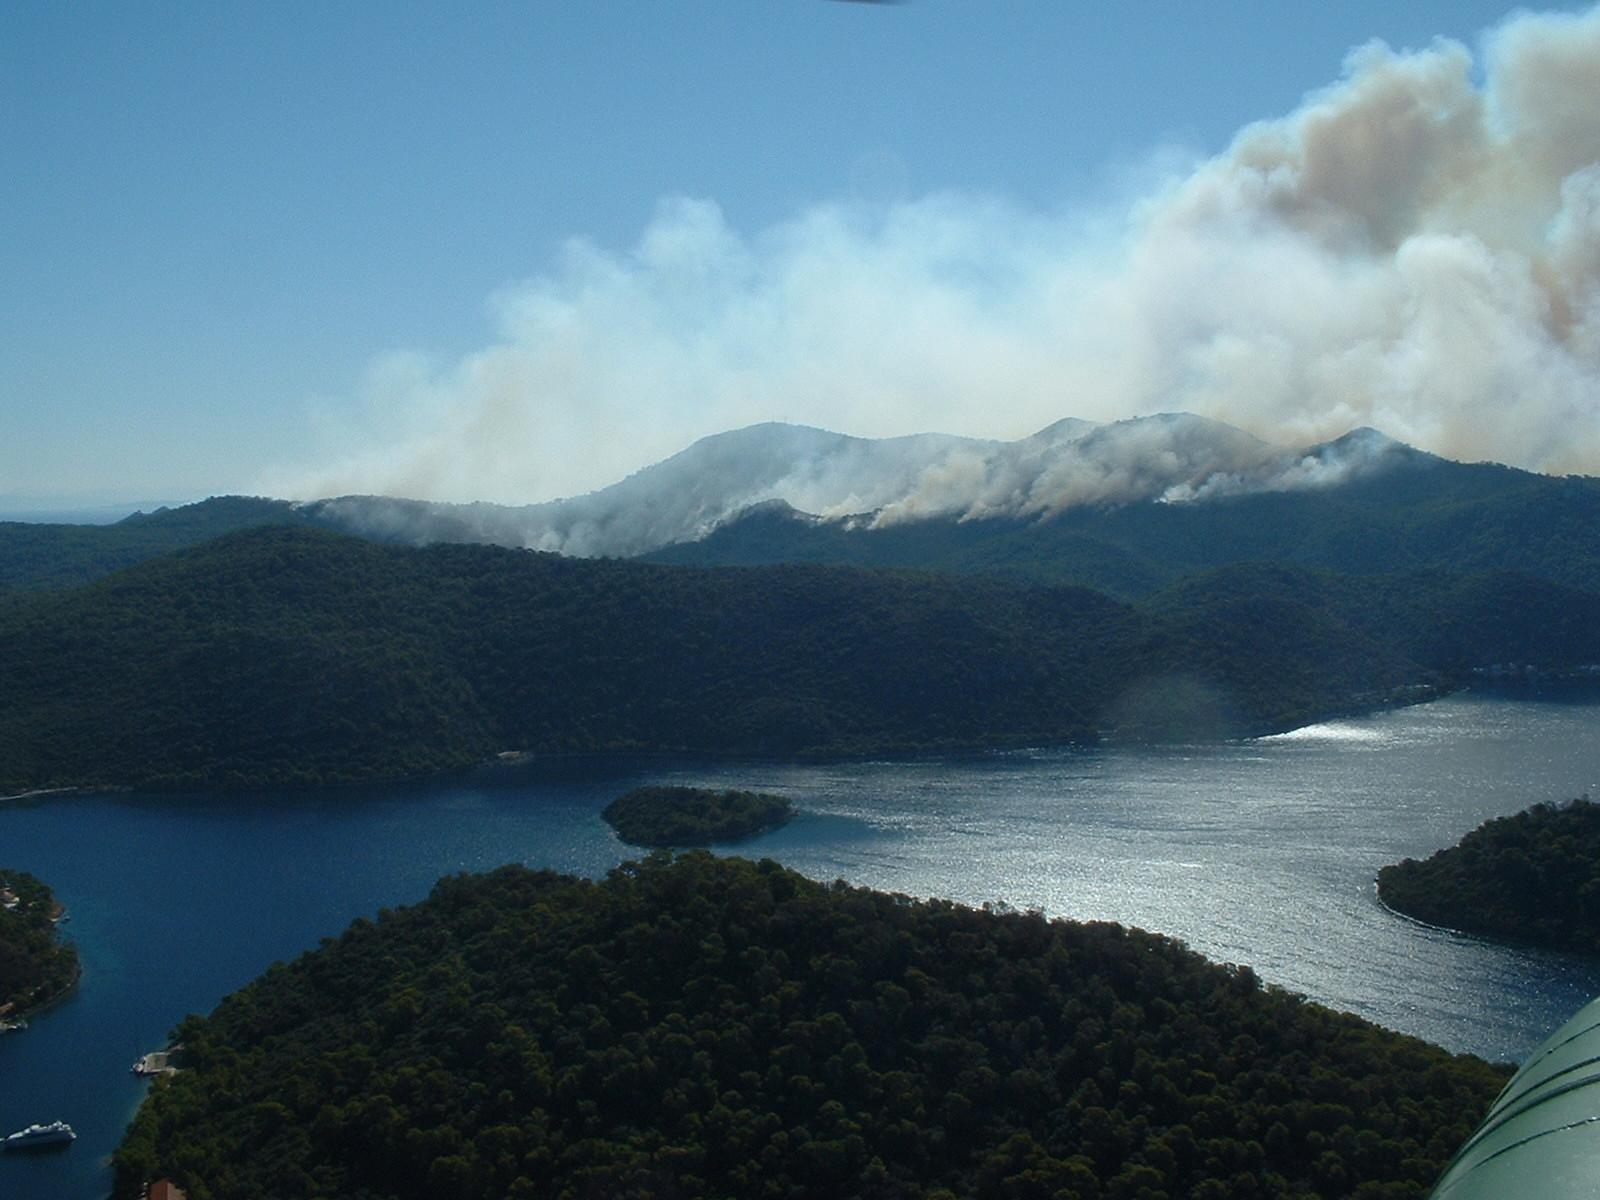Smoke: (294, 13, 1597, 561)
